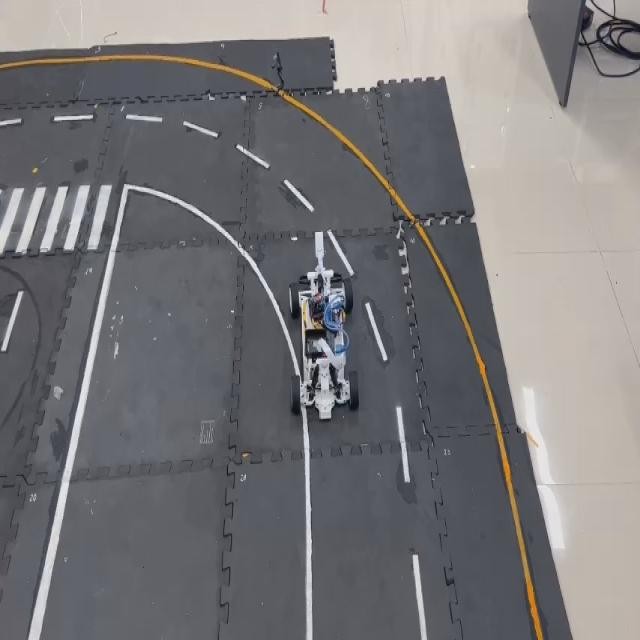SiCo-CAR: (287, 229, 360, 422)
